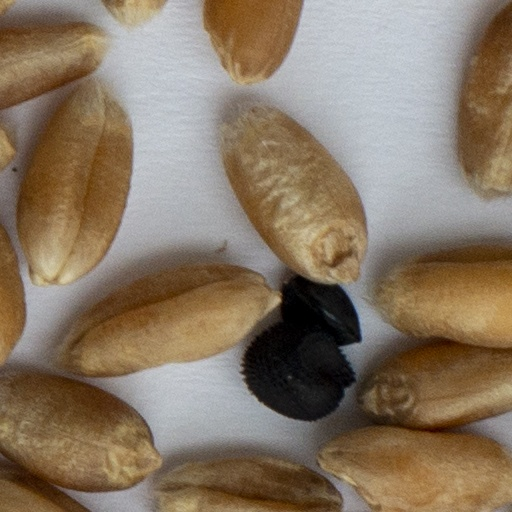Agrostemma-poly: (243, 316, 352, 419)
Fallopia-Convolvulus-poly: (280, 275, 361, 347)
